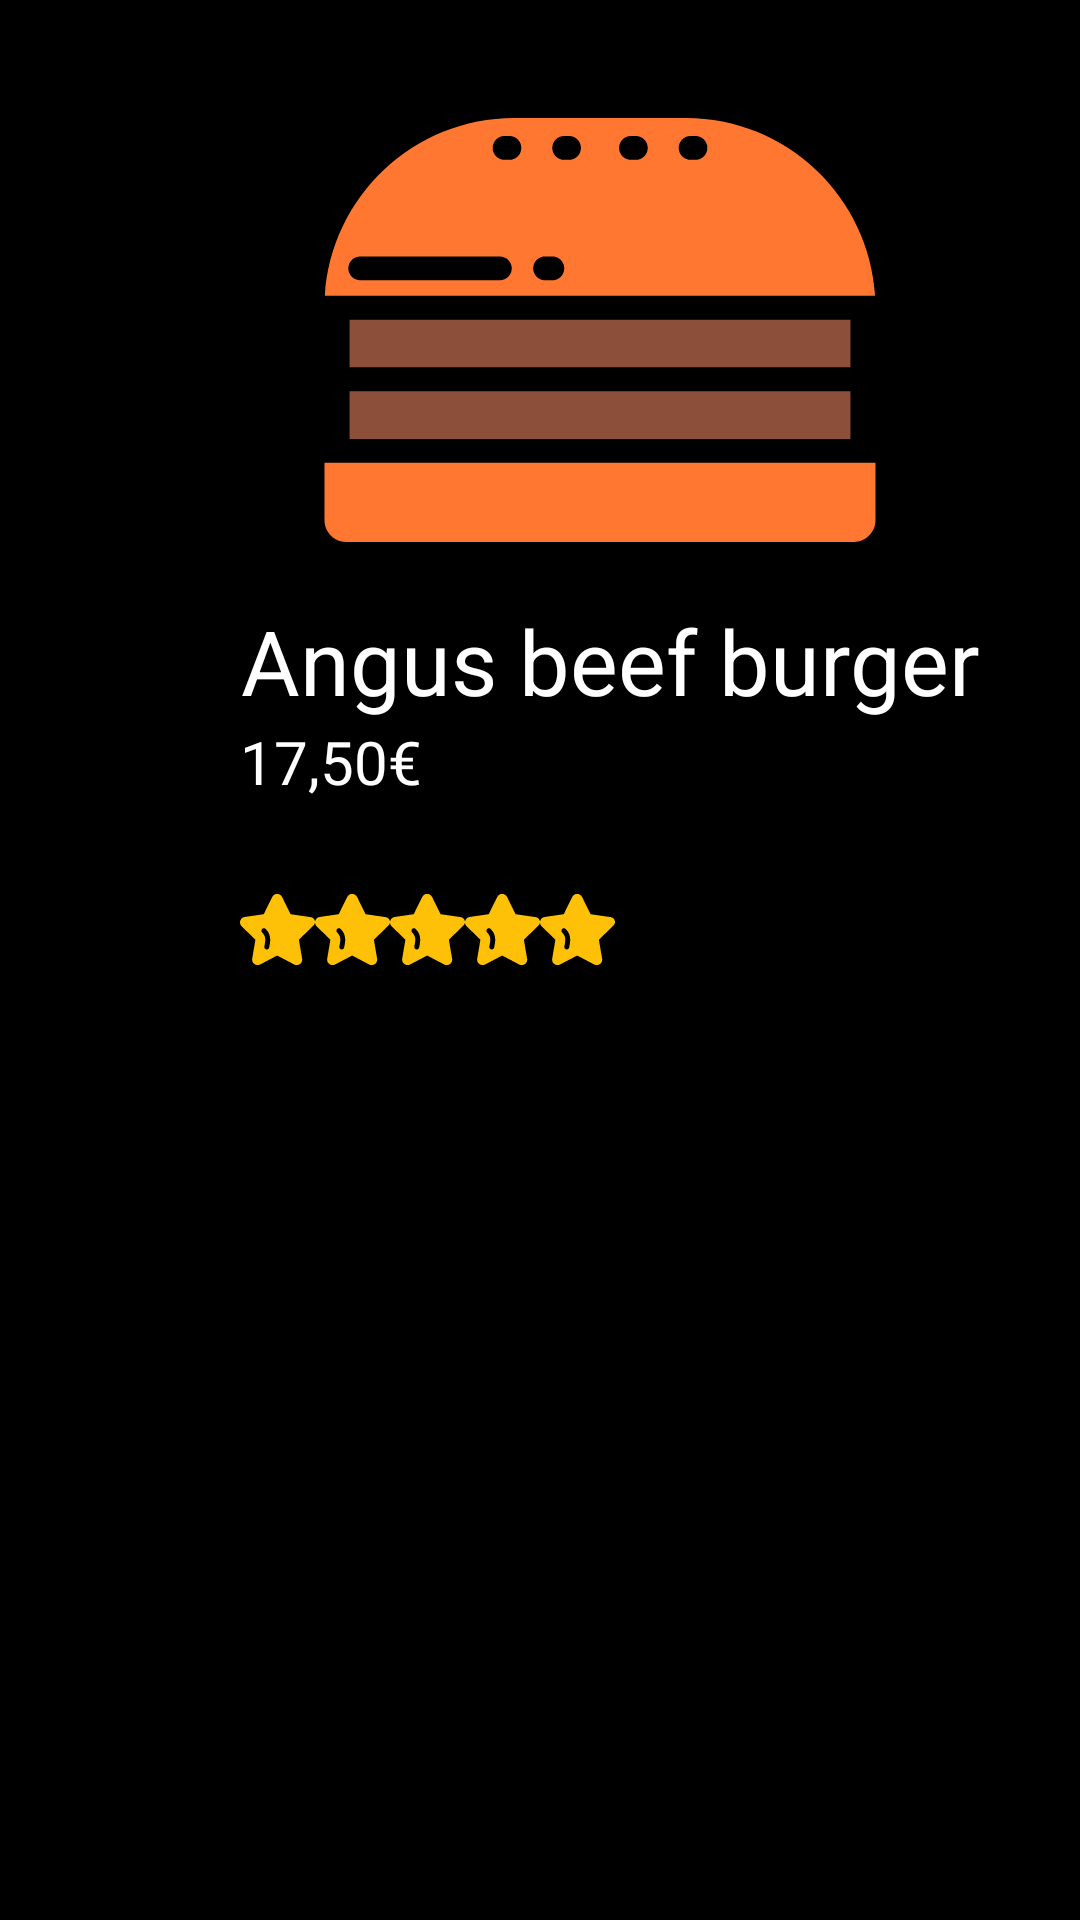

Locate icon controls on the screen. Image size 1080w x 1920h, boxes as (x1, y1, x2, y2).
star: (240, 894, 315, 965), (315, 894, 390, 965), (390, 894, 465, 965), (465, 894, 540, 965), (540, 894, 615, 965)
